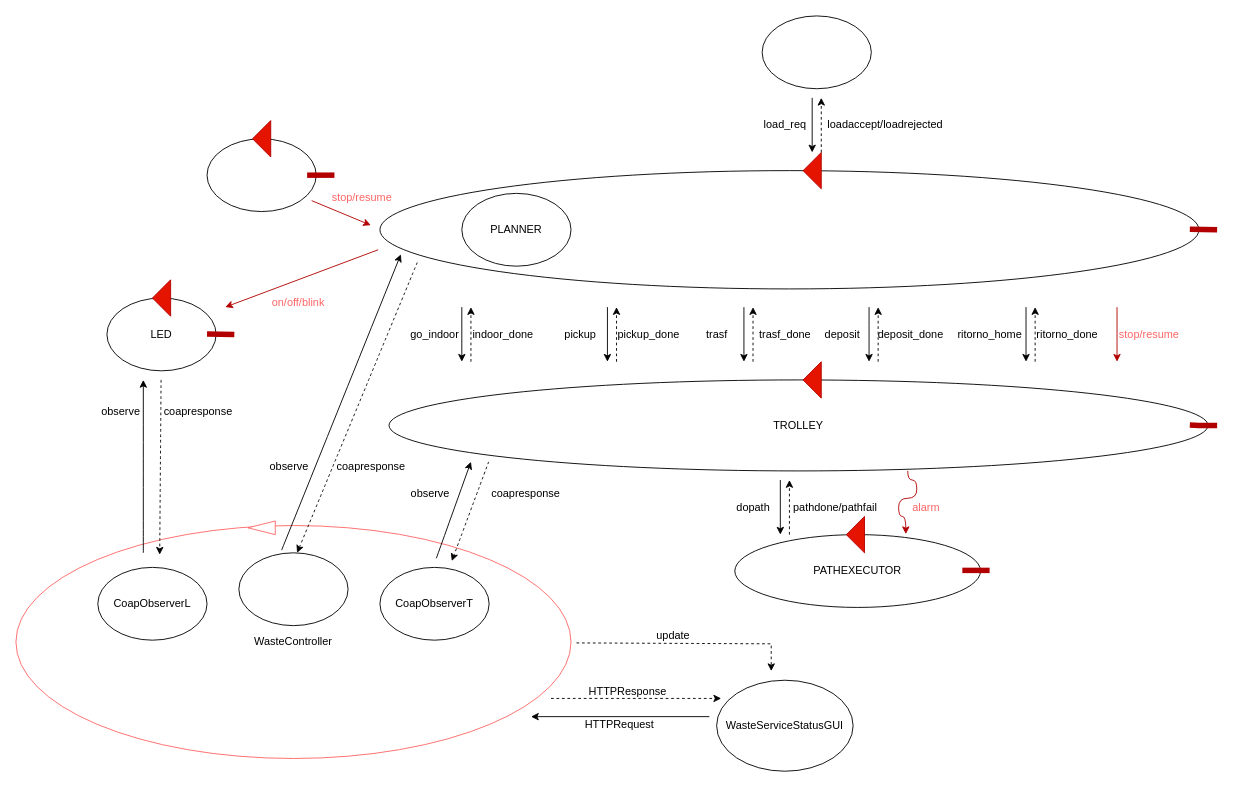
The diagram is 1237 pixels wide and 787 high, and some of its shapes have lost their labels. The box of each missing label's shape, as (x1, y1, x2, y2) in pixels:
CoapObserverW: (238, 552, 348, 626)
SONAR: (206, 138, 316, 212)
WASTE_SERVICE: (379, 170, 1199, 289)
WASTE_TRUCK: (761, 15, 871, 89)
